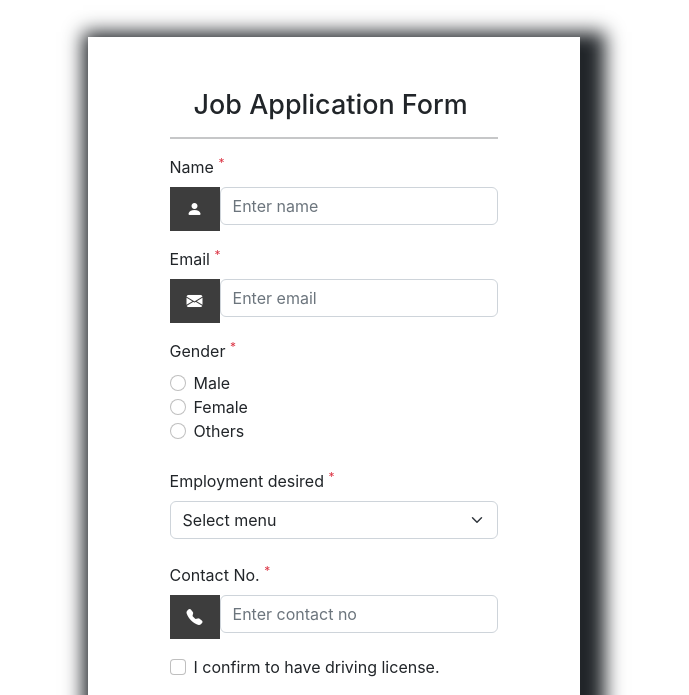
Dynamic Form › phone number verification
This screenshot has width=689, height=695.
In the field with test id "contact": (359, 614) [220, 595, 498, 633], type "2845765673"
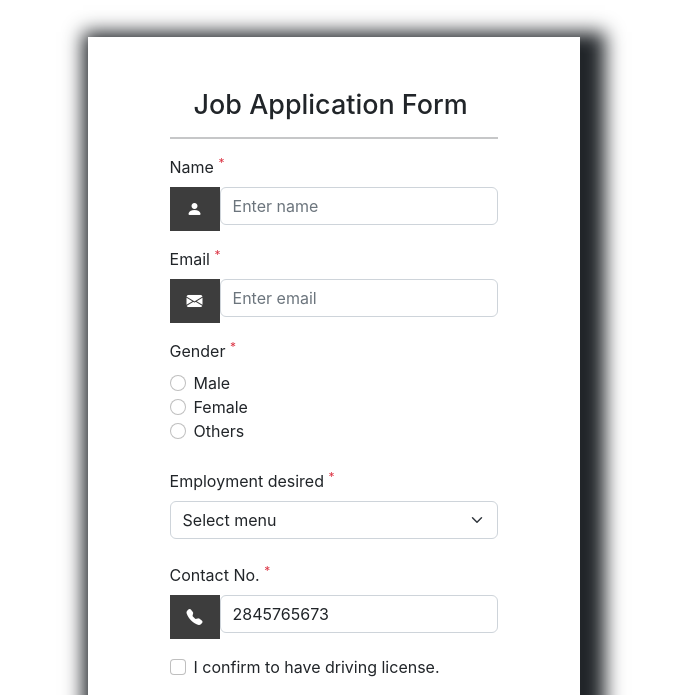
Leave the field with test id "contact", box [220, 595, 498, 633]
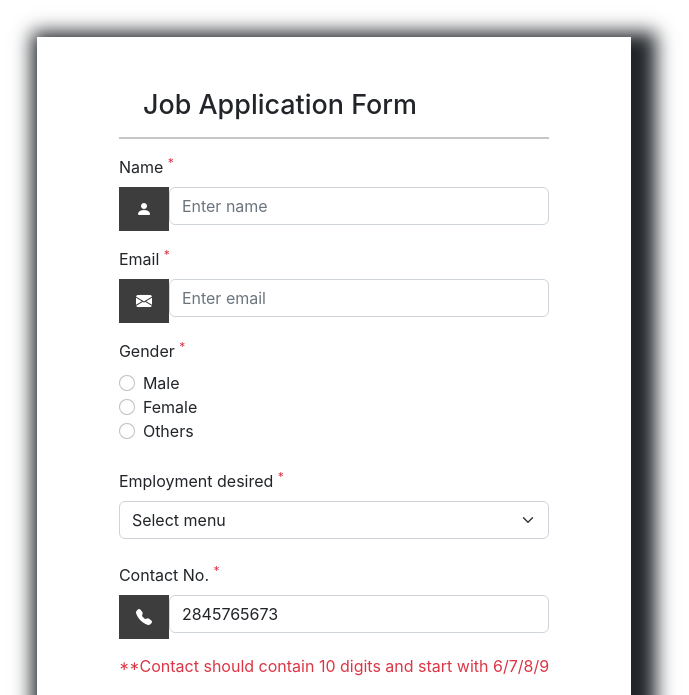
Expected: the text "**Contact should contain 10 digits and start with 6/7/8/9" is shown, [119, 654, 549, 678]
